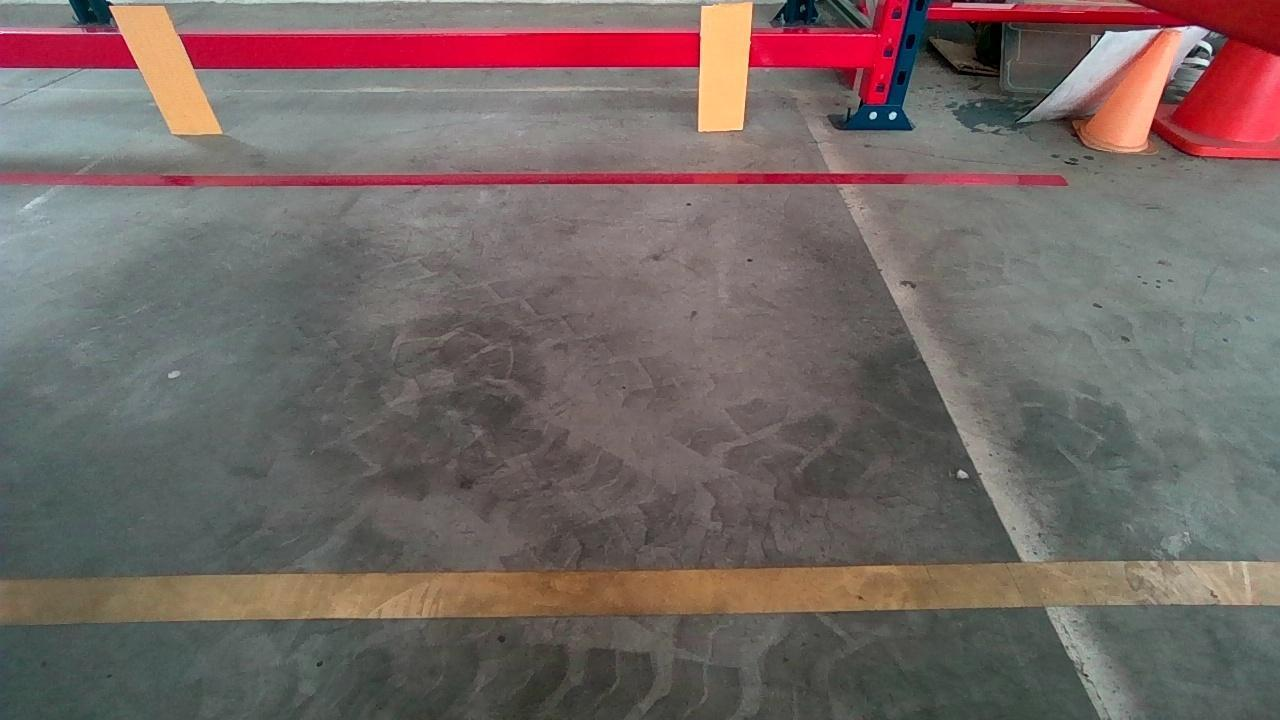orange_strip: (110, 5, 222, 134), (698, 3, 752, 131)
red_line: (0, 173, 1068, 187)
yellow_line: (9, 557, 1276, 627)
